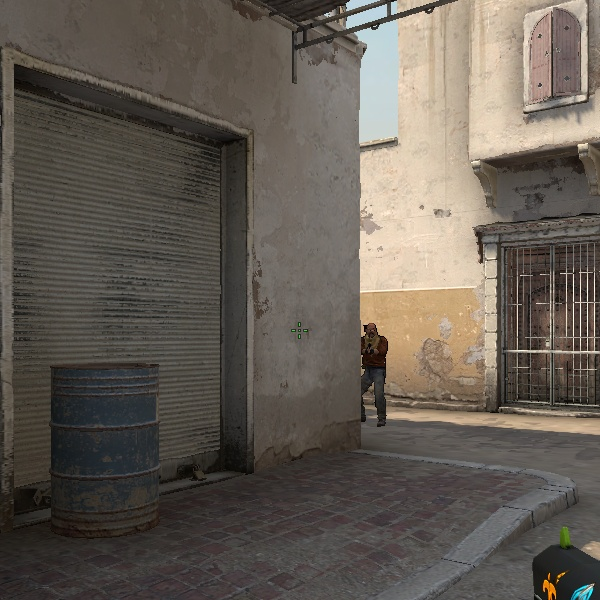t_body: (345, 320, 400, 431)
